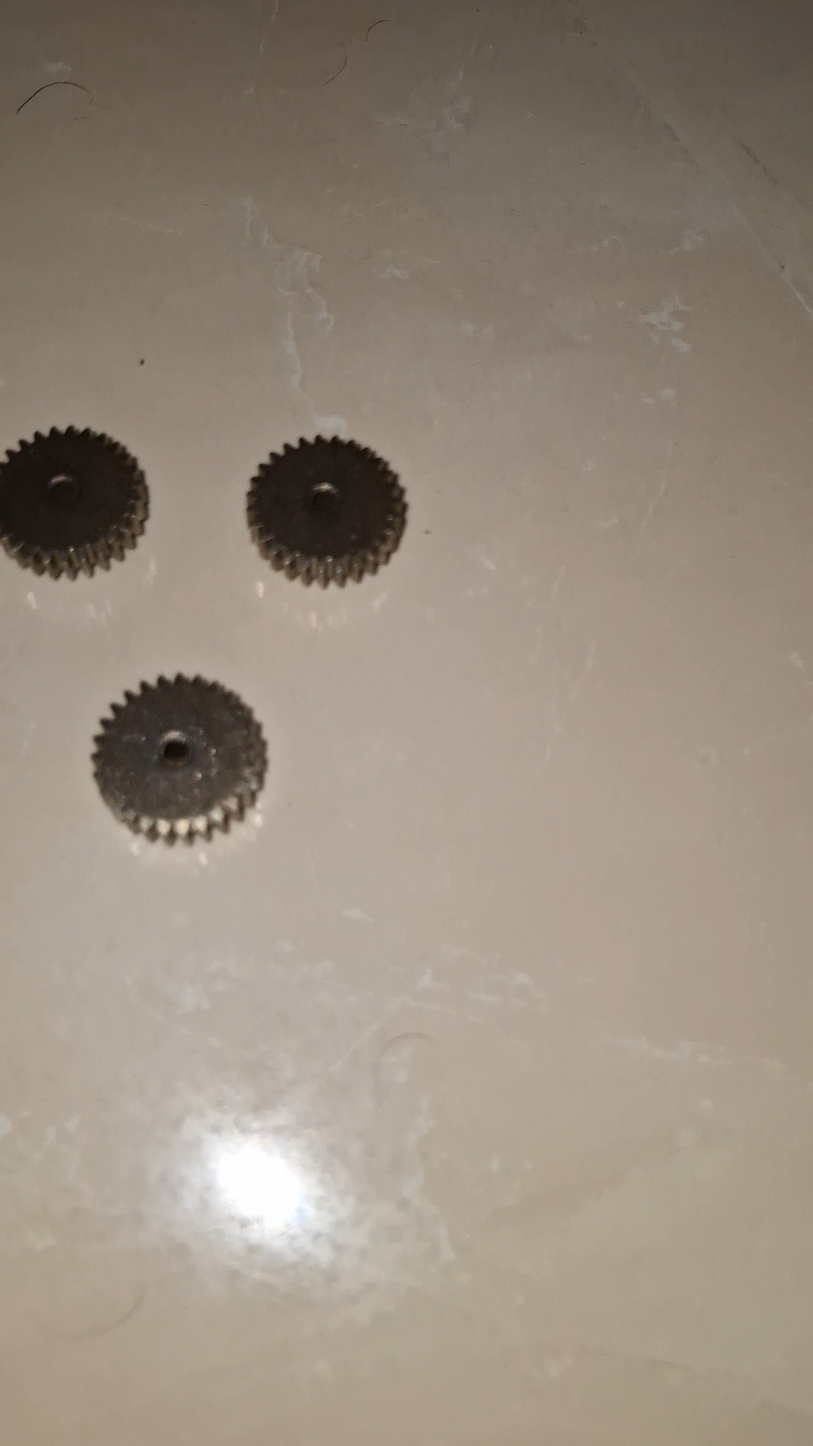spur gear: (93, 674, 266, 842), (247, 437, 407, 586), (0, 427, 148, 578)
